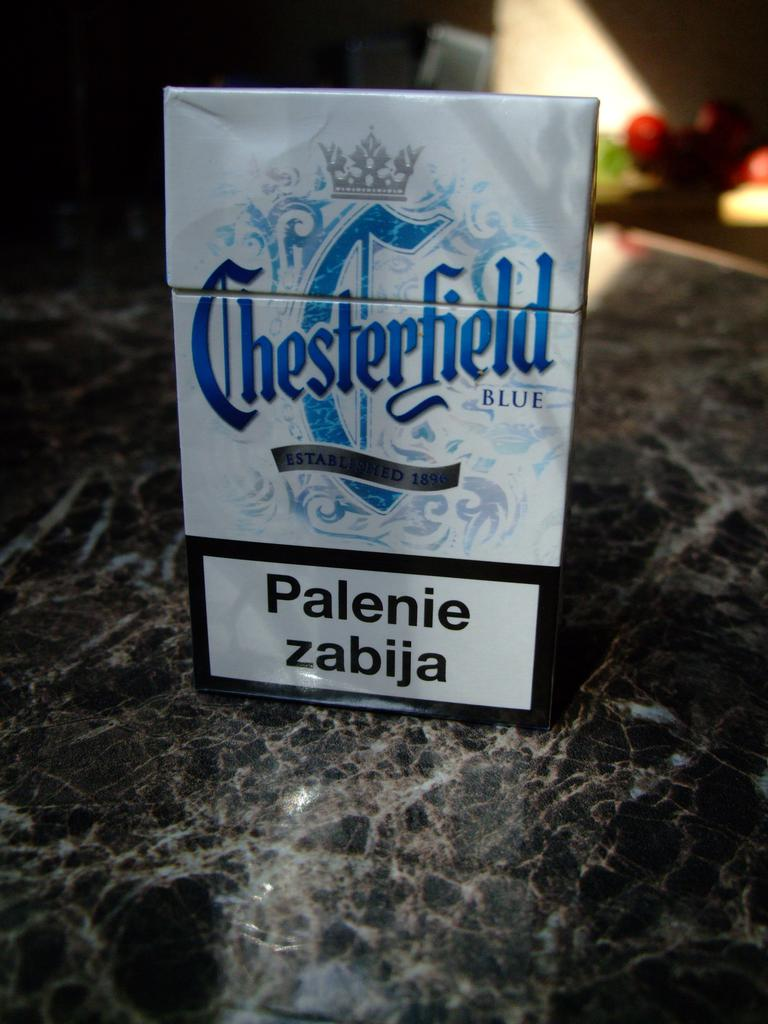chesterfield_blue: (188, 93, 557, 693)
